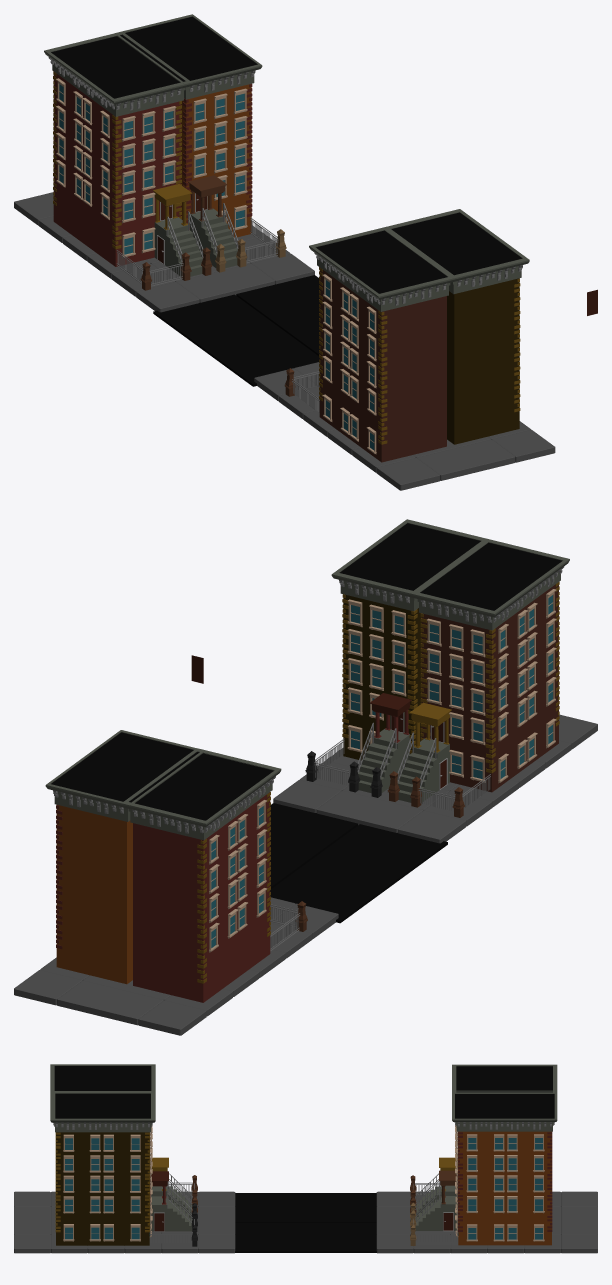
Rendered from BuildingRoads(2).fbx.
3 renders of one model, top to bottom at view 1: azimuth 30°, elevation 25°; view 2: azimuth 150°, elevation 25°; view 3: azimuth 270°, elevation 25°, orthographic. The views are drawn at different scales.
Visible parts, largest first — view 1: Cube.2039, Cube.935, Cube.2011, Cube.722, Cube.723, Cube.692, Cube.709, Cube.2024, Cube.047, Cube.308, Cube.1742, Cube.423 (+11 smaller); view 2: Cube.2011, Cube.308, Cube.2039, Cube.722, Cube.692, Cube.723, Cube.709, Cube.935, Cube.2024, Cube.047, Cube.1742, Cube.423 (+14 smaller); view 3: Cube.308, Cube.935, Cube.257, Cube.589, Cube.423, Cube.722, Cube.709, Cube.047, Cube.723, Cube.692, Cube.2024, Cube.1742 (+12 smaller).
Part boxes in pixels (left/top/right/bottom): Cube.2039: left=319, top=270, right=446, bottom=462; Cube.935: left=447, top=278, right=519, bottom=444; Cube.2011: left=53, top=72, right=180, bottom=266; Cube.722: left=153, top=294, right=319, bottom=386; Cube.723: left=254, top=362, right=479, bottom=490; Cube.692: left=14, top=192, right=238, bottom=312; Cube.709: left=120, top=16, right=257, bottom=81; Cube.2024: left=316, top=230, right=447, bottom=293; Cube.047: left=391, top=212, right=521, bottom=275; Cube.308: left=181, top=84, right=251, bottom=237; Cube.1742: left=51, top=36, right=179, bottom=98; Cube.423: left=236, top=275, right=319, bottom=355; Cube.2011: left=133, top=792, right=270, bottom=1002; Cube.308: left=56, top=805, right=132, bottom=984; Cube.2039: left=421, top=584, right=558, bottom=792; Cube.722: left=270, top=824, right=447, bottom=923; Cube.692: left=96, top=897, right=338, bottom=1035; Cube.723: left=355, top=714, right=597, bottom=843; Cube.709: left=51, top=732, right=199, bottom=802; Cube.935: left=343, top=594, right=421, bottom=760; Cube.2024: left=420, top=542, right=562, bottom=610; Cube.047: left=340, top=523, right=480, bottom=590; Cube.1742: left=135, top=753, right=273, bottom=820; Cube.423: left=270, top=803, right=357, bottom=888; Cube.308: left=458, top=1131, right=551, bottom=1245; Cube.935: left=56, top=1132, right=149, bottom=1245; Cube.257: left=376, top=1220, right=597, bottom=1253; Cube.589: left=14, top=1220, right=235, bottom=1253; Cube.423: left=235, top=1222, right=376, bottom=1252; Cube.722: left=235, top=1193, right=376, bottom=1222; Cube.709: left=455, top=1091, right=554, bottom=1118; Cube.047: left=55, top=1093, right=150, bottom=1118; Cube.723: left=14, top=1191, right=235, bottom=1220; Cube.692: left=376, top=1191, right=597, bottom=1220; Cube.2024: left=54, top=1066, right=151, bottom=1090; Cube.1742: left=456, top=1066, right=552, bottom=1090.
Size of the model in its own units: 5538 by 3199 by 12745.
